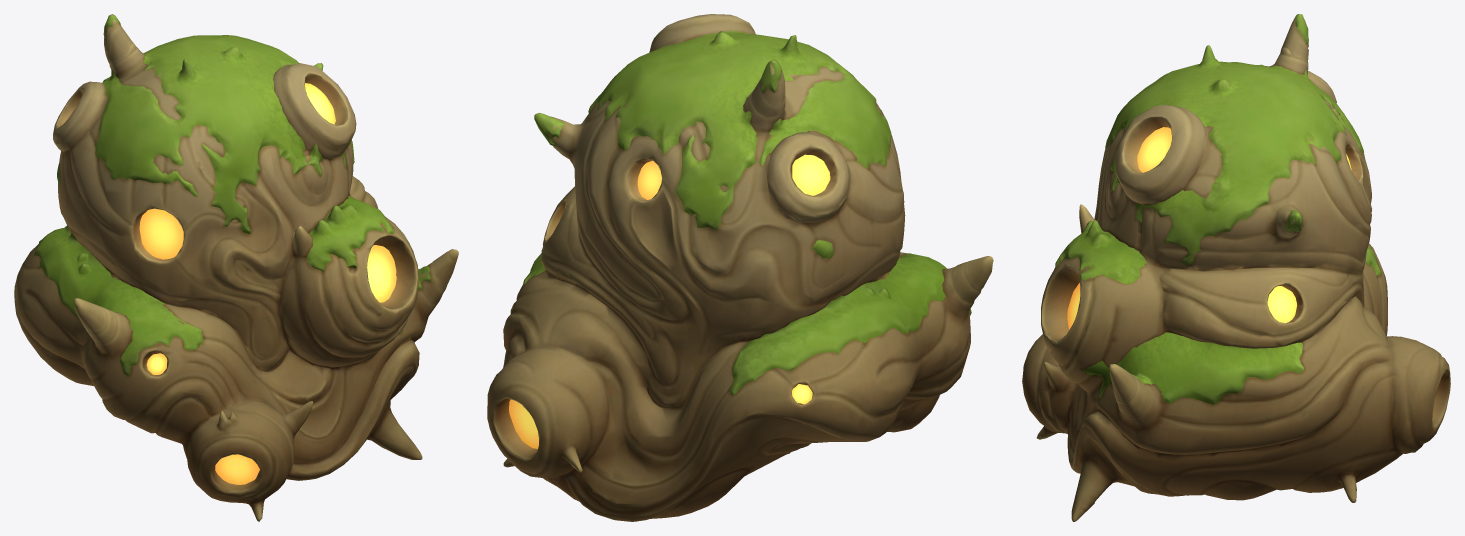
File: bog_acorn_house.glb
3 views of the same model, side by side, from view 1: azimuth 30°, elevation 25°; view 2: azimuth 150°, elevation 25°; view 3: azimuth 270°, elevation 25° (orthographic). The views are drawn at different scales.
Visible parts, largest first — view 1: SM_XBOG_STL_Acorn_01A; view 2: SM_XBOG_STL_Acorn_01A; view 3: SM_XBOG_STL_Acorn_01A.
Boxes of the visible parts, bbox=[...] form: SM_XBOG_STL_Acorn_01A: bbox=[14, 14, 458, 521]; SM_XBOG_STL_Acorn_01A: bbox=[487, 14, 993, 521]; SM_XBOG_STL_Acorn_01A: bbox=[1022, 14, 1450, 521].
Size of the model in its own units: 21.03 by 22.69 by 21.14.
Materials: 1 (1 with a texture image).
